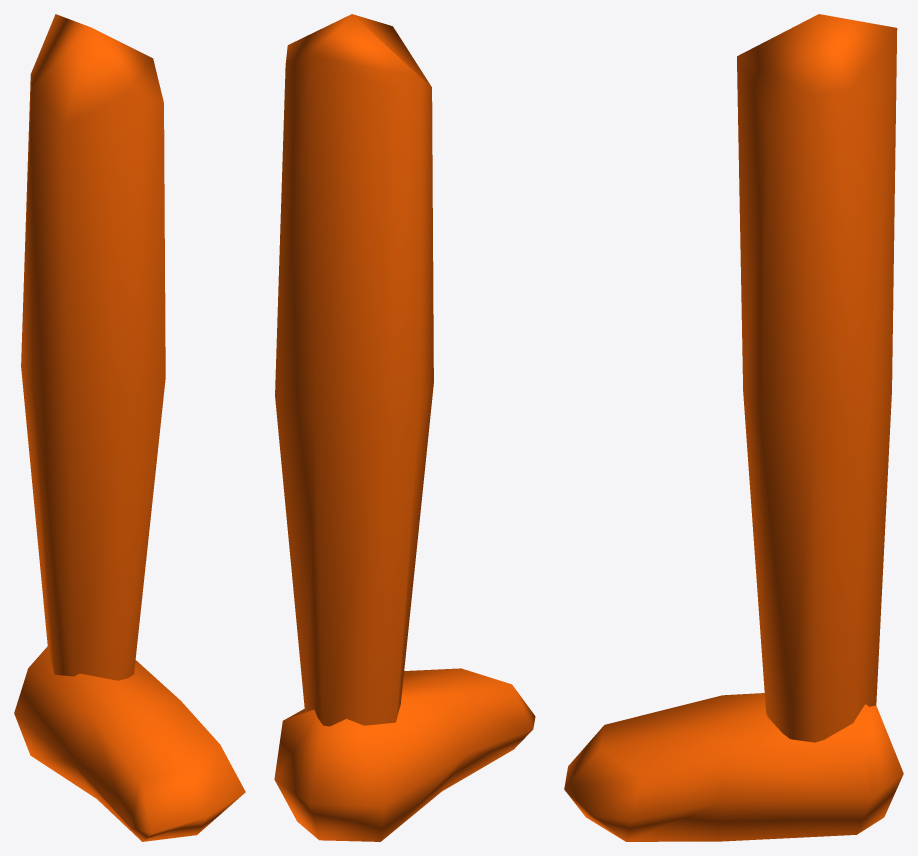
Rendered from regLeft.obj.
The picture shows the model from 3 angles, left to right: view 1: azimuth 30°, elevation 25°; view 2: azimuth 150°, elevation 25°; view 3: azimuth 270°, elevation 25°; orthographic projection. The views are drawn at different scales.
Visible parts, largest first — view 1: pasted__pasted__pCube7 pasted__group13 group14, pCube7; view 2: pasted__pasted__pCube7 pasted__group13 group14, pCube7; view 3: pasted__pasted__pCube7 pasted__group13 group14, pCube7.
Part boxes in pixels (box(x1,y1,x2,y2)): pasted__pasted__pCube7 pasted__group13 group14: box(21, 14, 165, 680); pCube7: box(14, 646, 245, 841); pasted__pasted__pCube7 pasted__group13 group14: box(275, 14, 433, 726); pCube7: box(274, 668, 535, 841); pasted__pasted__pCube7 pasted__group13 group14: box(737, 14, 897, 742); pCube7: box(564, 693, 903, 841).
Size of the model in its own units: 3.65 by 20.68 by 7.92.
